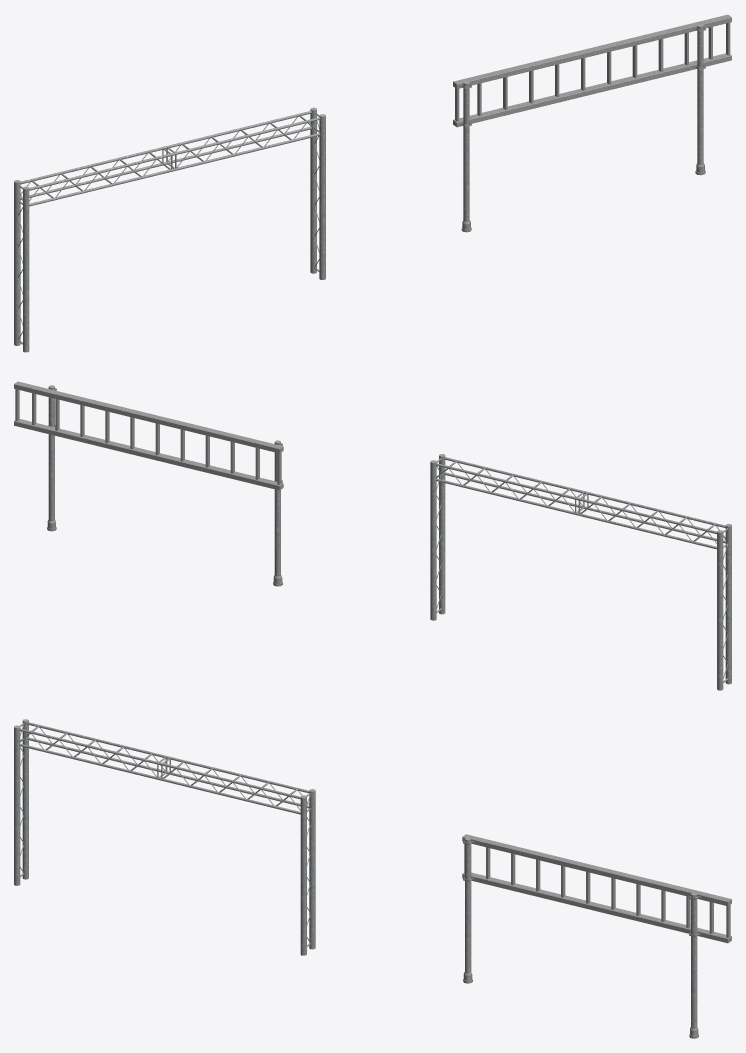
The model's file is Sign_Construction.FBX.
3 views of the same model, one above another, from view 1: azimuth 30°, elevation 25°; view 2: azimuth 150°, elevation 25°; view 3: azimuth 330°, elevation 25° (orthographic). The views are drawn at different scales.
Visible parts, largest first — view 1: highway_sign_2, highway_sign_1; view 2: highway_sign_2, highway_sign_1; view 3: highway_sign_2, highway_sign_1.
Part boxes in pixels (x1,y1,x2,y2): highway_sign_2: (14, 107, 325, 352); highway_sign_1: (453, 14, 731, 232); highway_sign_2: (430, 454, 731, 690); highway_sign_1: (14, 381, 283, 586); highway_sign_2: (14, 719, 315, 955); highway_sign_1: (462, 834, 731, 1038).
Bounding box in the file's own units: 1817 × 391 × 89.33.
